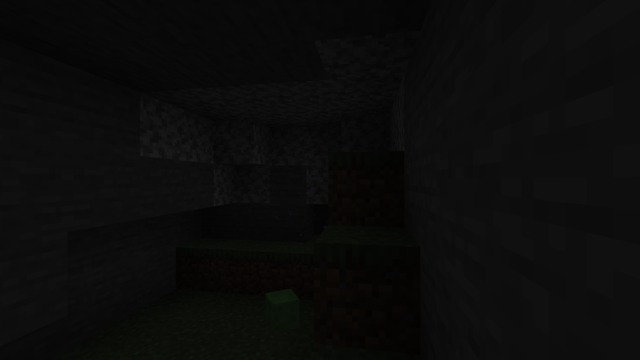slimes: (262, 288, 298, 333)
